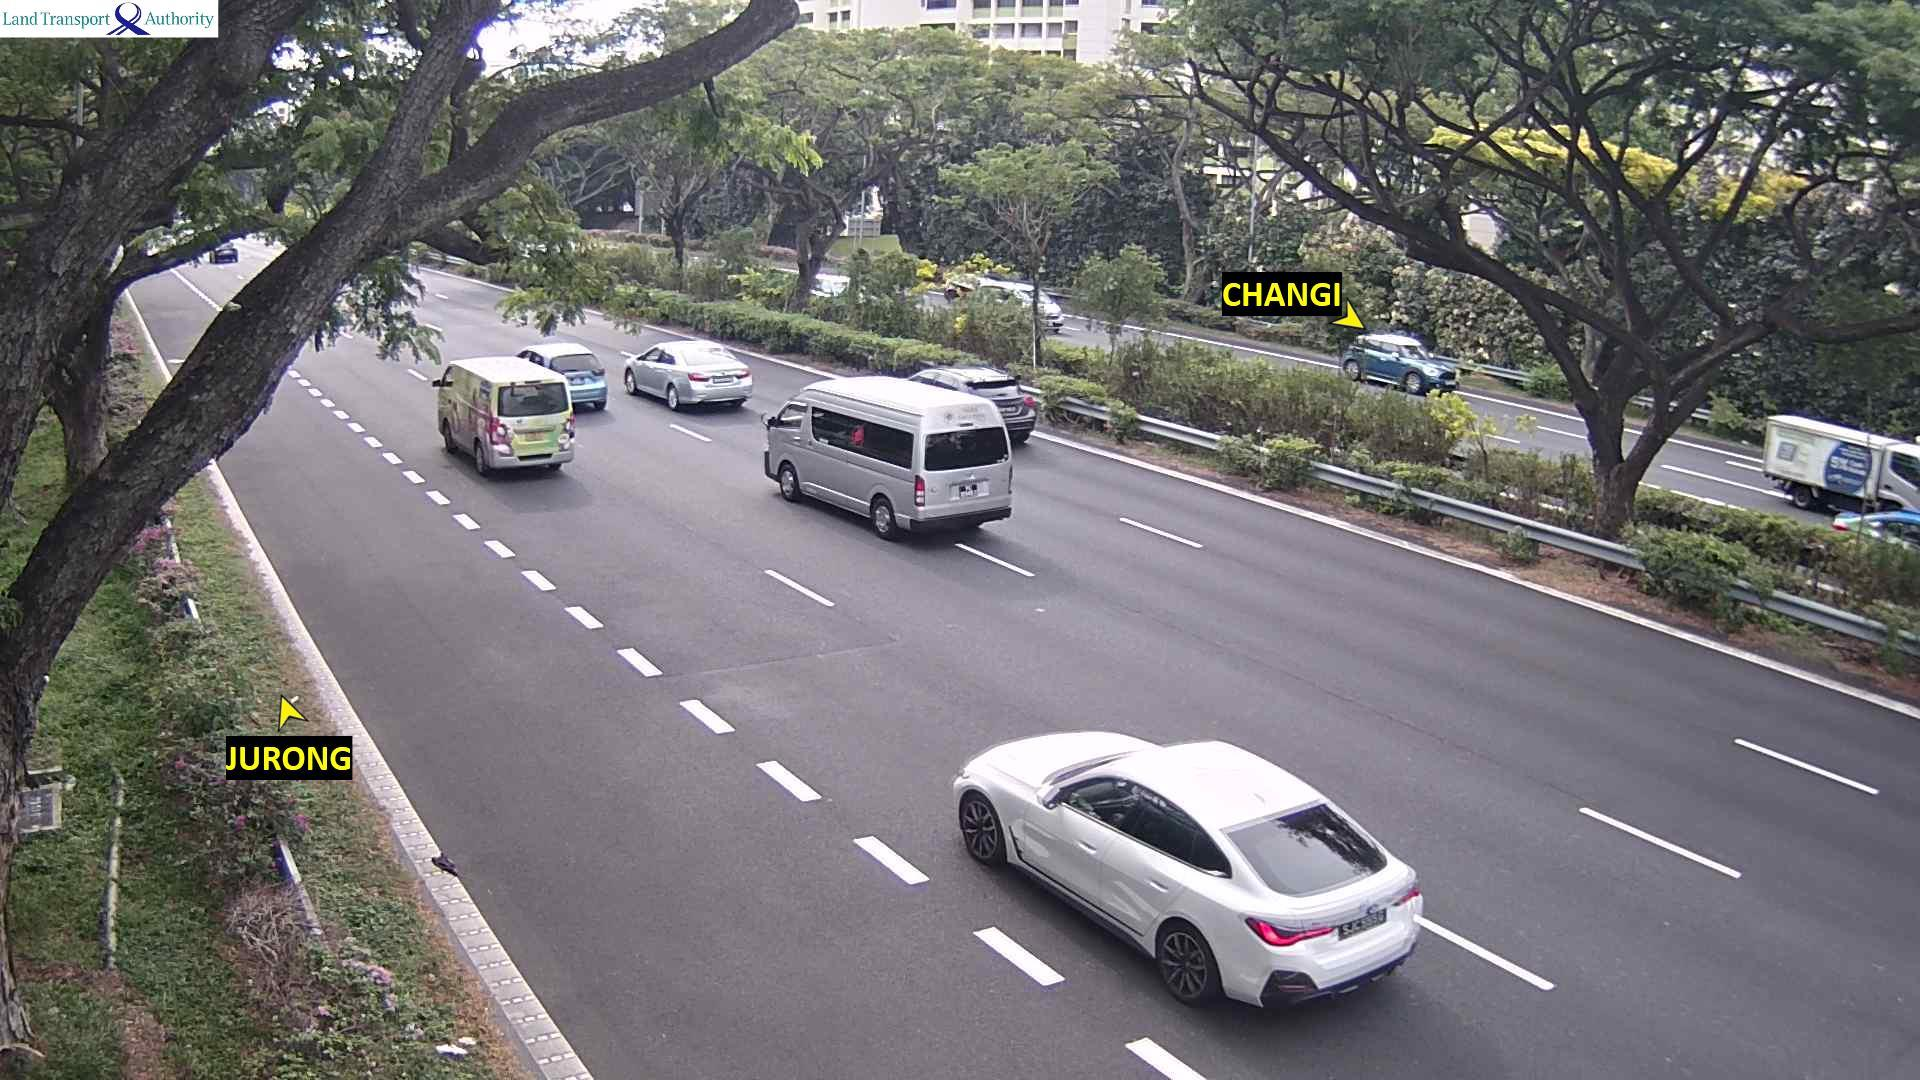incoming: (1390, 340, 1464, 394)
